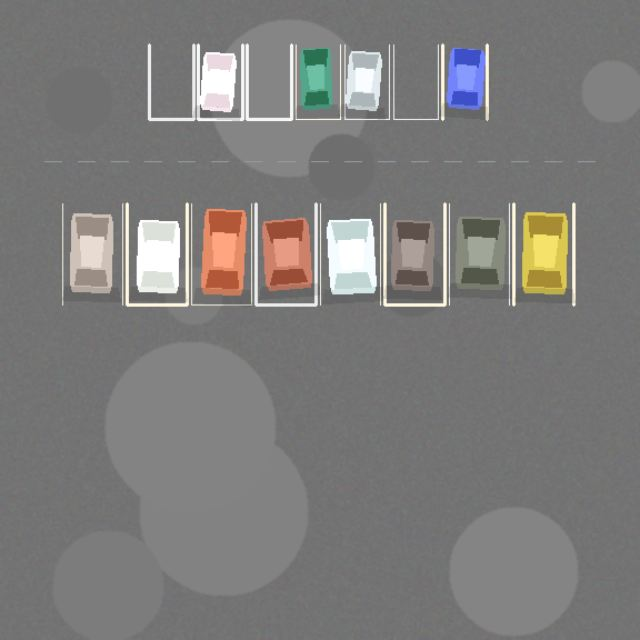space-empty: (393, 44, 438, 119), (149, 44, 193, 119), (247, 44, 291, 119)
space-occupied: (62, 203, 122, 304), (127, 203, 187, 304), (191, 203, 251, 304), (256, 203, 316, 304), (320, 203, 380, 304), (384, 203, 444, 304), (449, 203, 509, 304), (513, 203, 573, 304), (344, 44, 389, 119), (442, 44, 487, 119), (198, 44, 242, 119), (296, 44, 340, 119)
